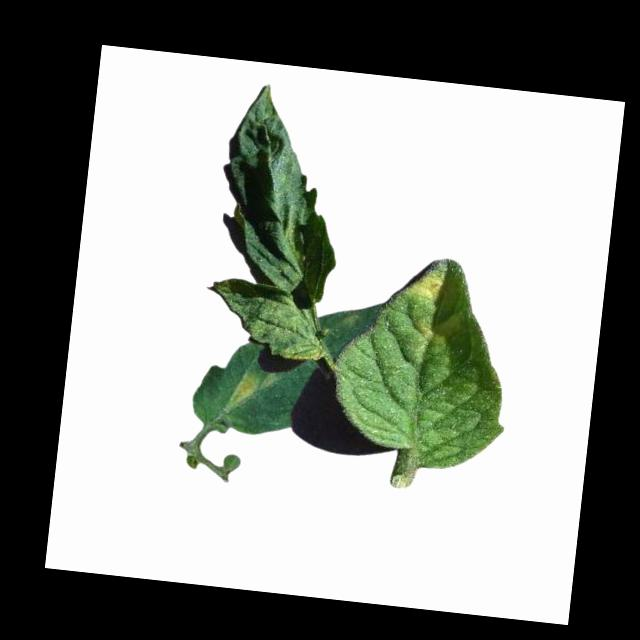Leaf_Mold: (404, 269, 444, 305), (226, 367, 259, 409)
